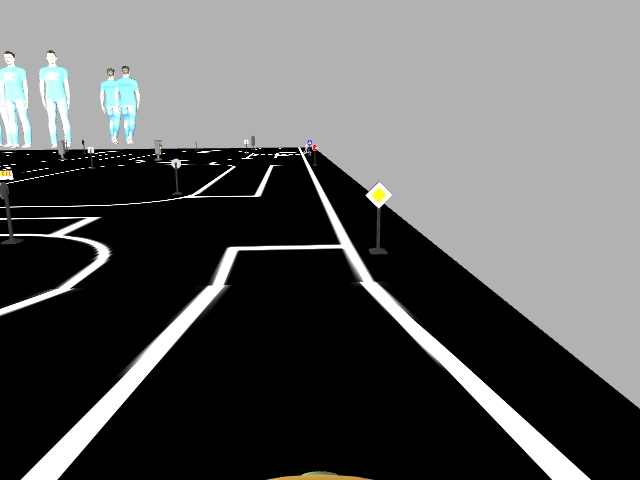Priority: (363, 179, 393, 208)
